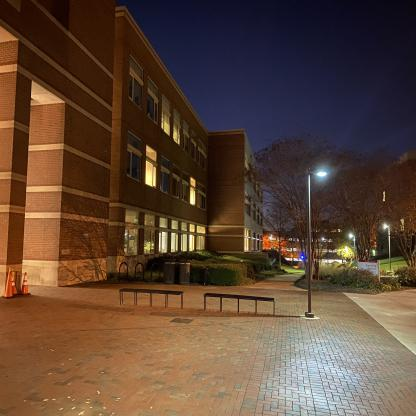eb2: (0, 0, 264, 272)
